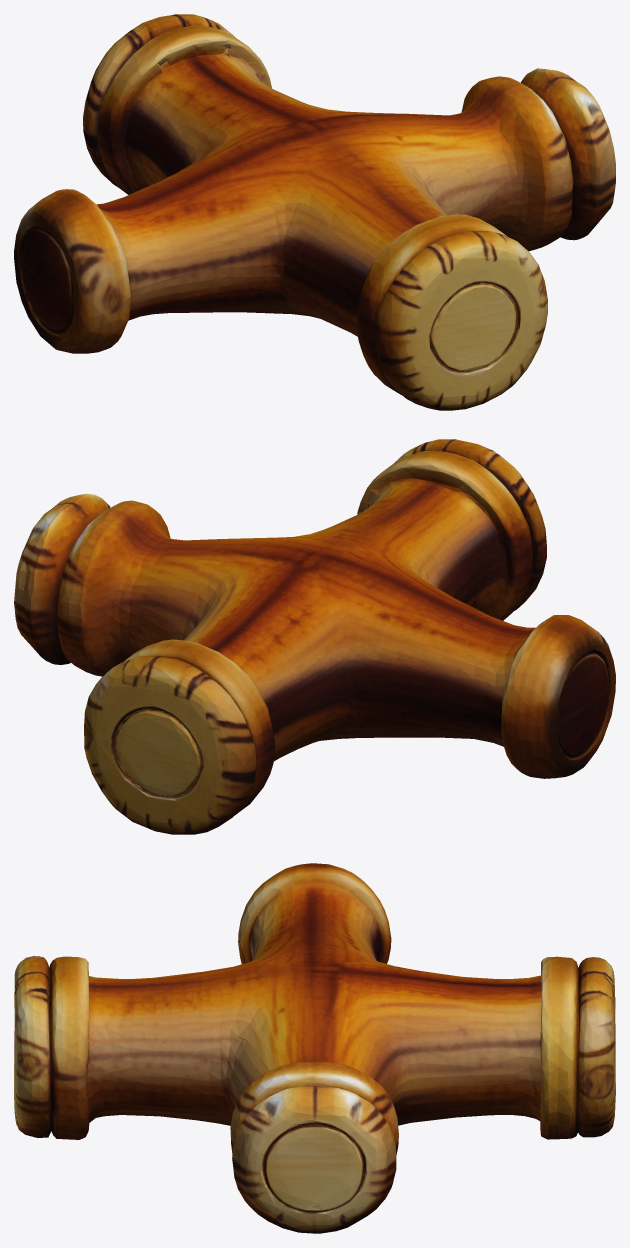
Rendered from wooden-massage-roller-rustic.jpeg.glb.
3 renders of one model, top to bottom at view 1: azimuth 30°, elevation 25°; view 2: azimuth 150°, elevation 25°; view 3: azimuth 270°, elevation 25°, orthographic. The views are drawn at different scales.
Parts seen in each view (by area): view 1: world; view 2: world; view 3: world.
Boxes of the visible parts, x1=… form: world: x1=14, y1=14, x2=615, y2=410; world: x1=14, y1=439, x2=615, y2=834; world: x1=14, y1=863, x2=615, y2=1233.
Bounding box in the file's own units: 0.9819 × 0.2997 × 0.9912.
Materials: 1 (1 with a texture image).
